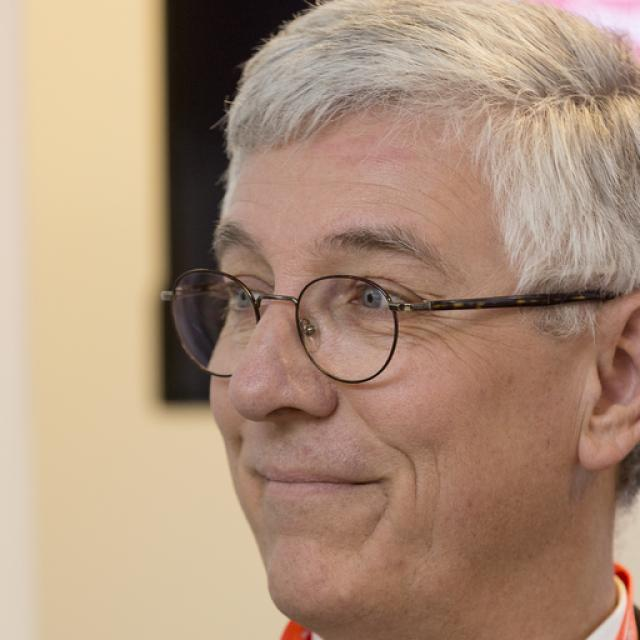happy: (203, 74, 596, 628)
